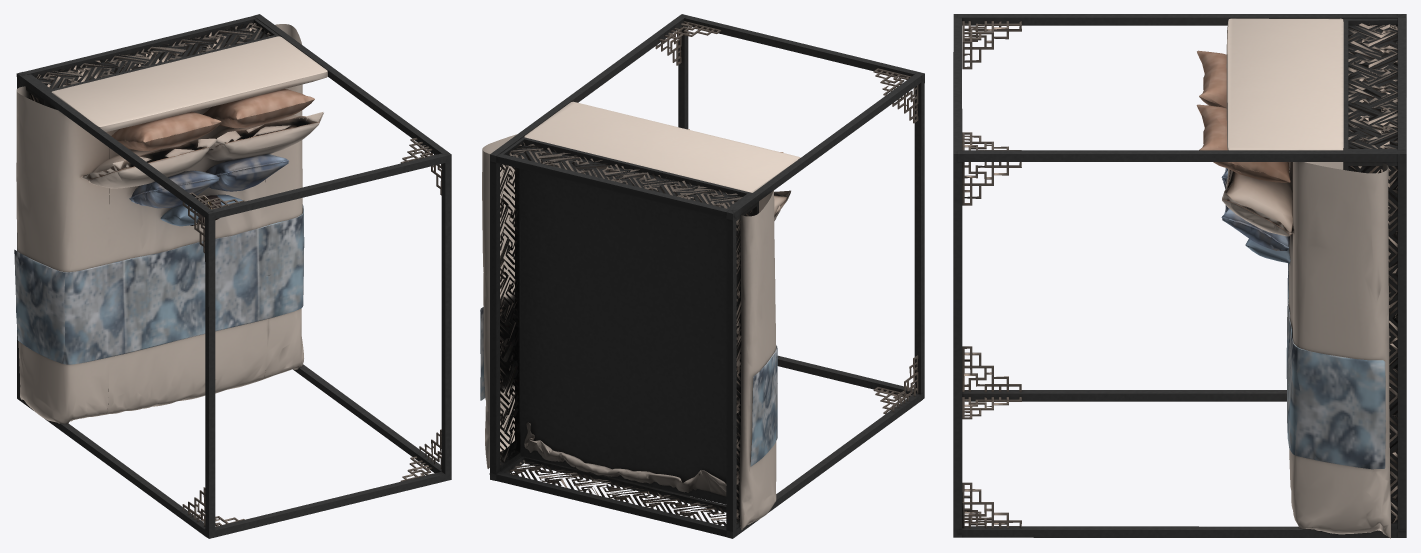
File: raw_model.glb
3 renders of one model, left to right at view 1: azimuth 30°, elevation 25°; view 2: azimuth 150°, elevation 25°; view 3: azimuth 270°, elevation 25°, orthographic. The views are drawn at different scales.
Visible parts, largest first — view 1: raw_model; view 2: raw_model; view 3: raw_model.
Part boxes in pixels (left/top/right/bottom): raw_model: left=14, top=14, right=451, bottom=538; raw_model: left=480, top=14, right=924, bottom=538; raw_model: left=953, top=14, right=1406, bottom=538.
Bounding box in the file's own units: 1.87 × 2.14 × 2.26.
1 material, 1 textured.
